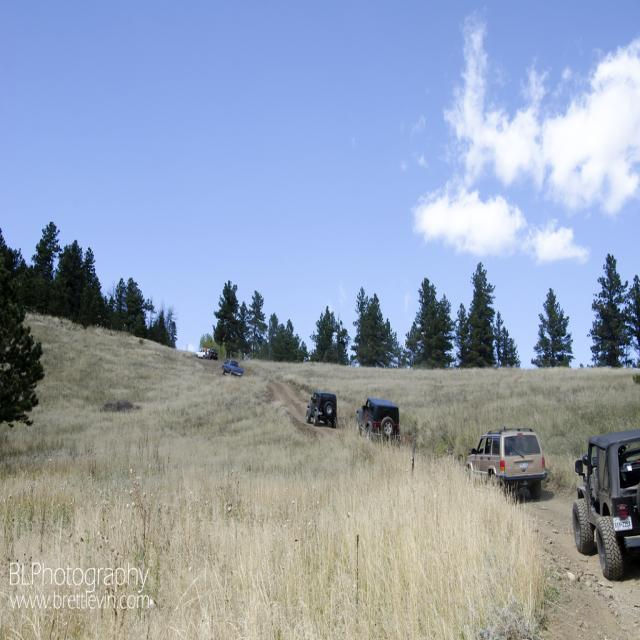car: (462, 422, 548, 499)
